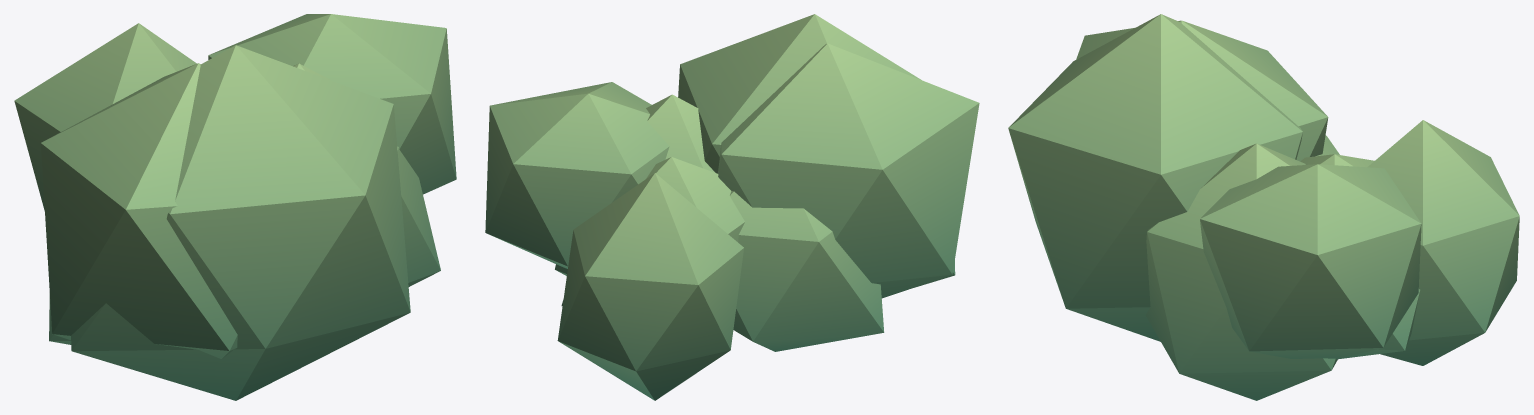
The model's file is SM_GR_Bush.fbx.
3 renders of one model, left to right at view 1: azimuth 30°, elevation 25°; view 2: azimuth 150°, elevation 25°; view 3: azimuth 270°, elevation 25°, orthographic. The views are drawn at different scales.
Parts seen in each view (by area): view 1: SM_GR_Bush; view 2: SM_GR_Bush; view 3: SM_GR_Bush.
Boxes of the visible parts, x1,y1,x2,y2 form: SM_GR_Bush: (14, 14, 456, 400); SM_GR_Bush: (485, 14, 979, 400); SM_GR_Bush: (1008, 14, 1519, 400).
Size of the model in its own units: 119 by 88.55 by 122.
